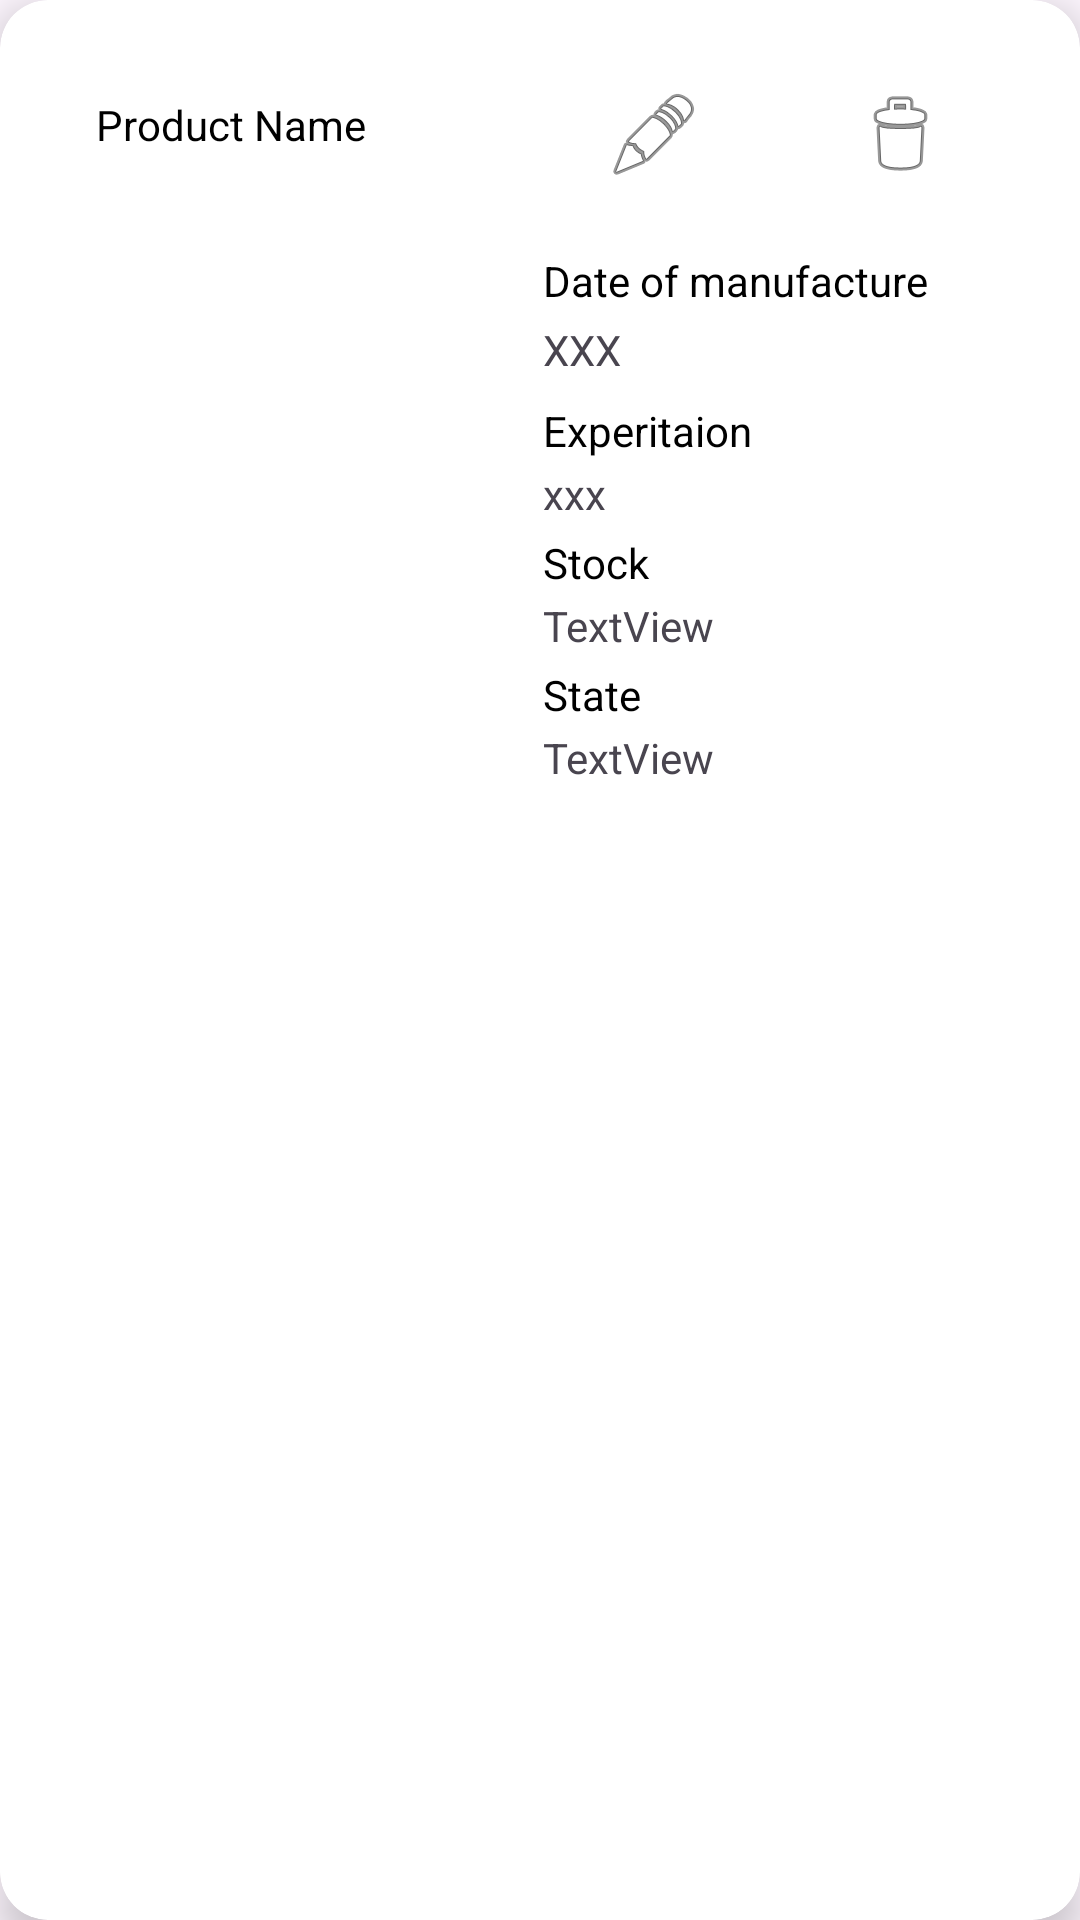

Icon bounding boxes for this 1080w x 1920h phone screenshot, format (x1=x1, y1=y1, x2=x2, y2=y2):
delete: (x1=873, y1=96, x2=928, y2=171)
edit: (x1=613, y1=94, x2=694, y2=175)
